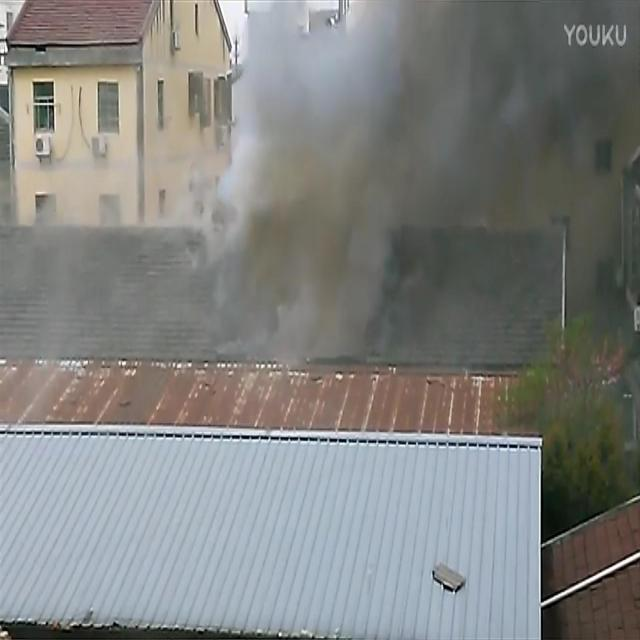Smoke: (182, 0, 640, 364)
